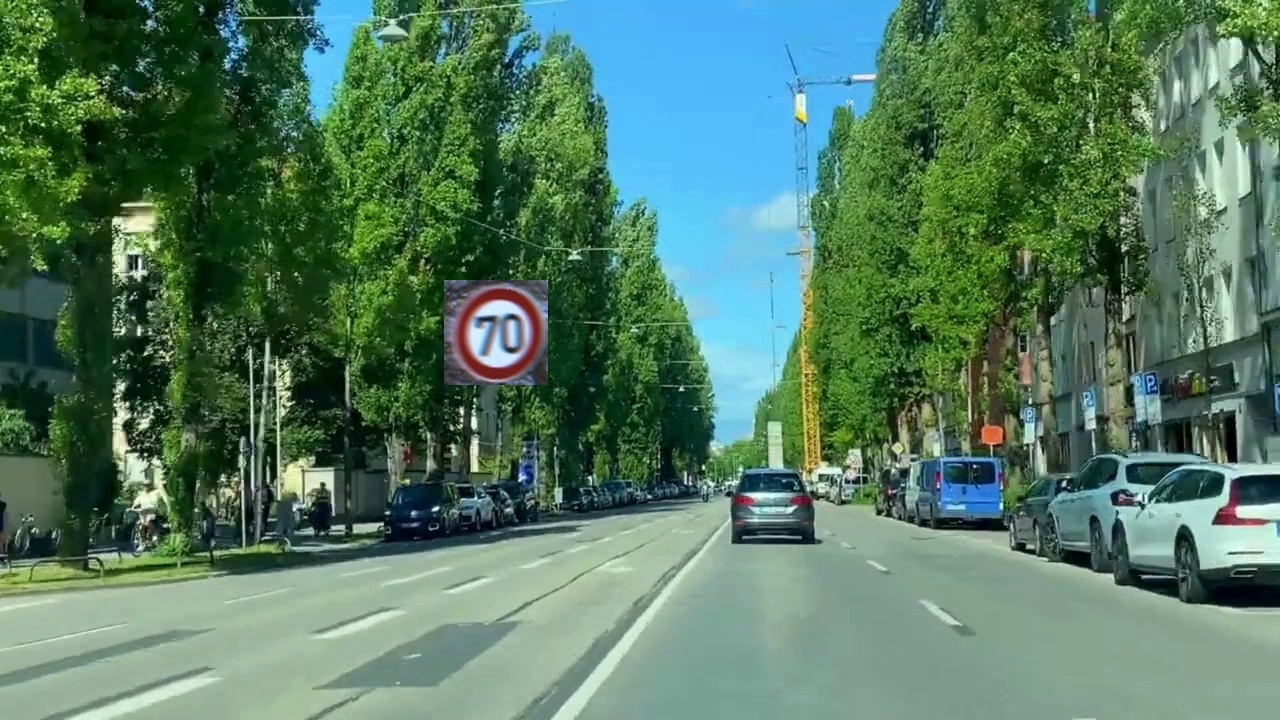Speed 70: (444, 280, 548, 385)
